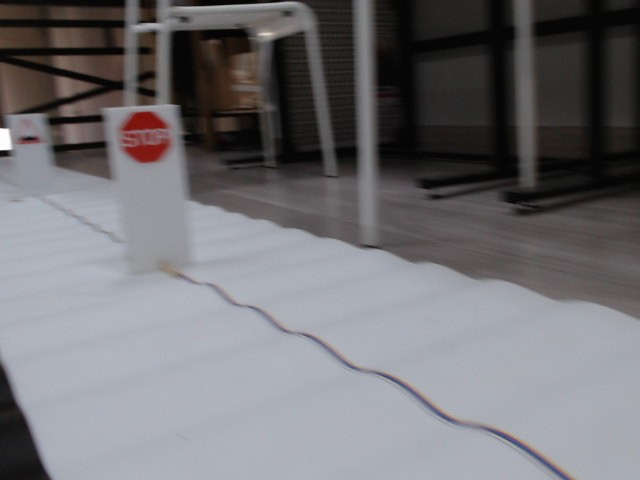Nerov: (16, 118, 43, 145)
Stop: (119, 112, 171, 161)
